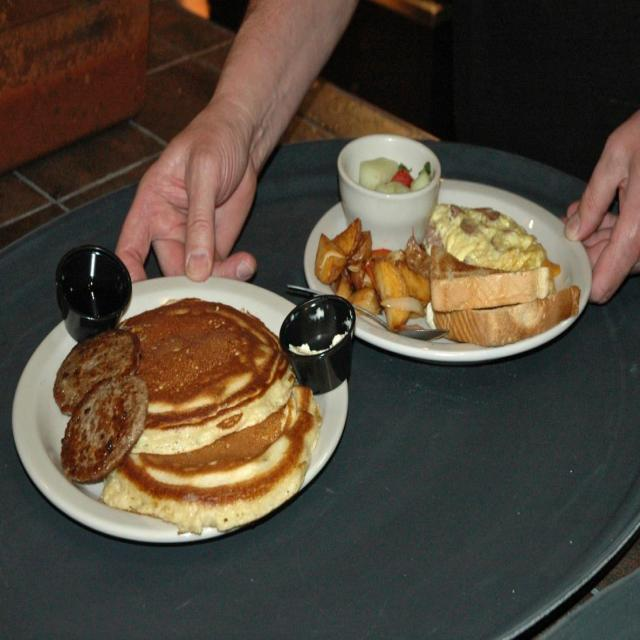French Toast: (430, 252, 580, 347)
Omelette: (434, 199, 544, 269)
Pancakes: (124, 299, 317, 542)
